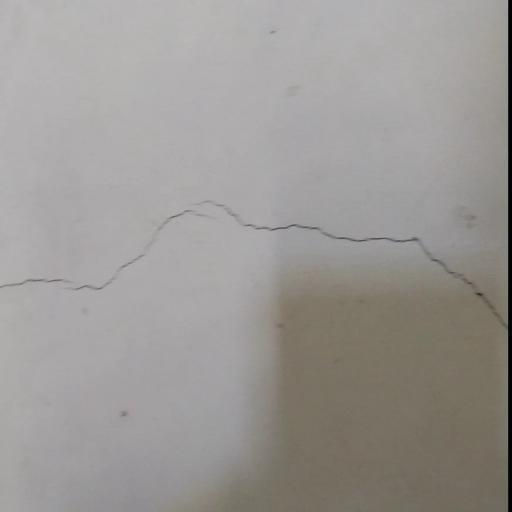major_crack: (0, 196, 509, 344)
